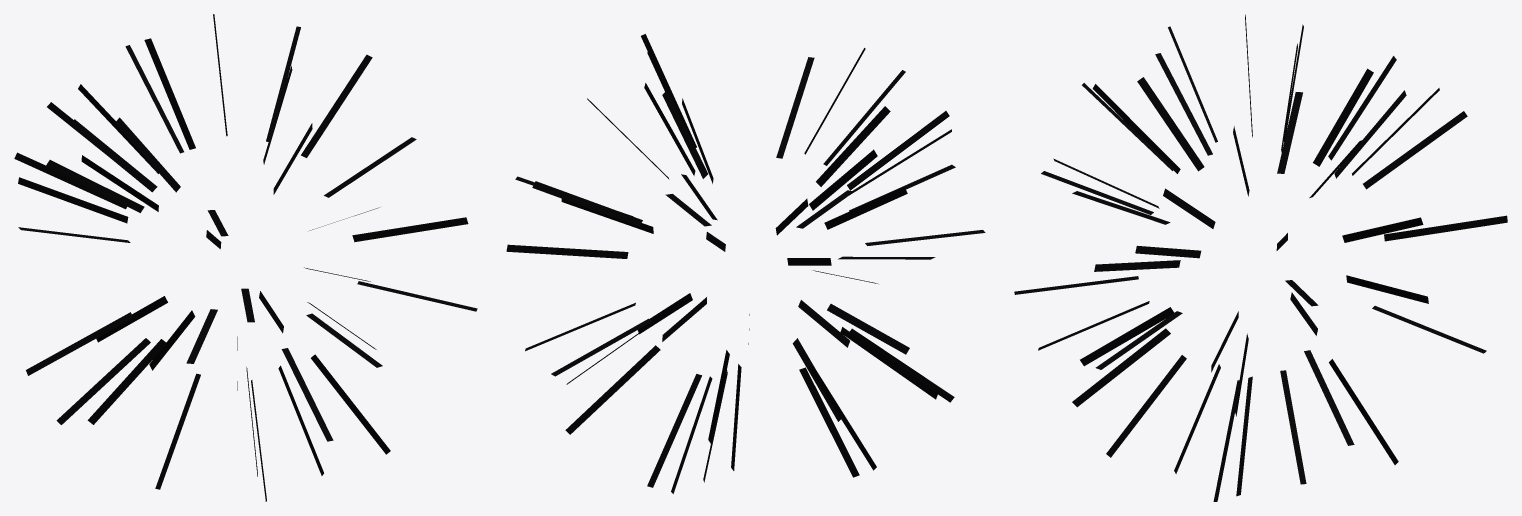
The picture shows the model from 3 angles, left to right: view 1: azimuth 30°, elevation 25°; view 2: azimuth 150°, elevation 25°; view 3: azimuth 270°, elevation 25°; orthographic projection.
Parts seen in each view (by area): view 1: T1L2M005_17; view 2: T1L2M005_17; view 3: T1L2M005_17.
Boxes of the visible parts, x1=… form: T1L2M005_17: x1=14, y1=14, x2=477, y2=501; T1L2M005_17: x1=506, y1=34, x2=985, y2=493; T1L2M005_17: x1=1014, y1=14, x2=1507, y2=501.
Bounding box in the file's own units: 3.85 × 3.83 × 3.94.
